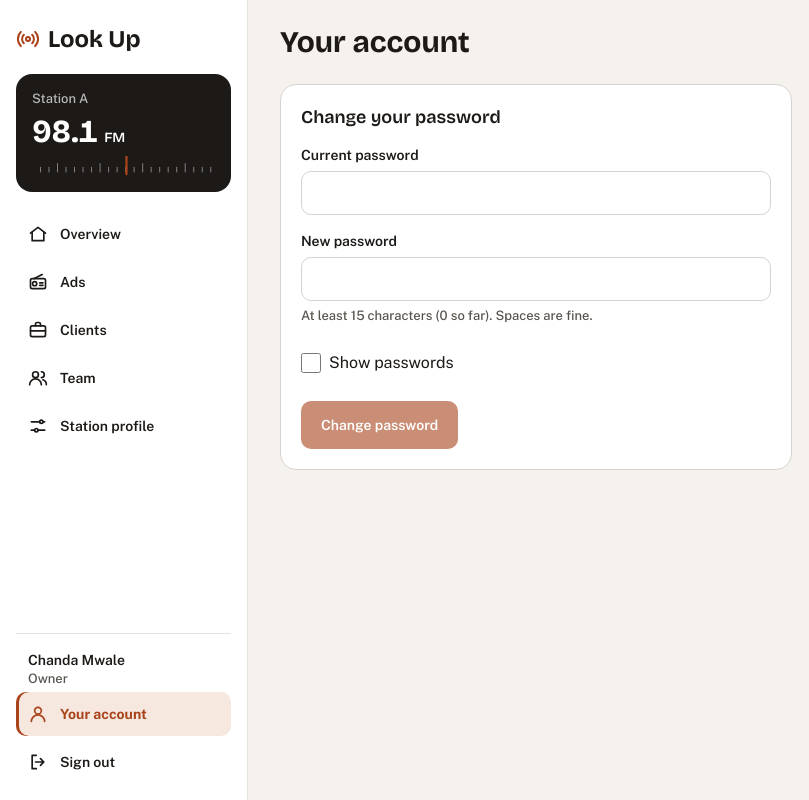
Test: changing a password › confirms the change and clears both fields
Type "amber kettle rainy harbour" into the password field labelled "Current password" at (536, 193), box [301, 171, 771, 215]
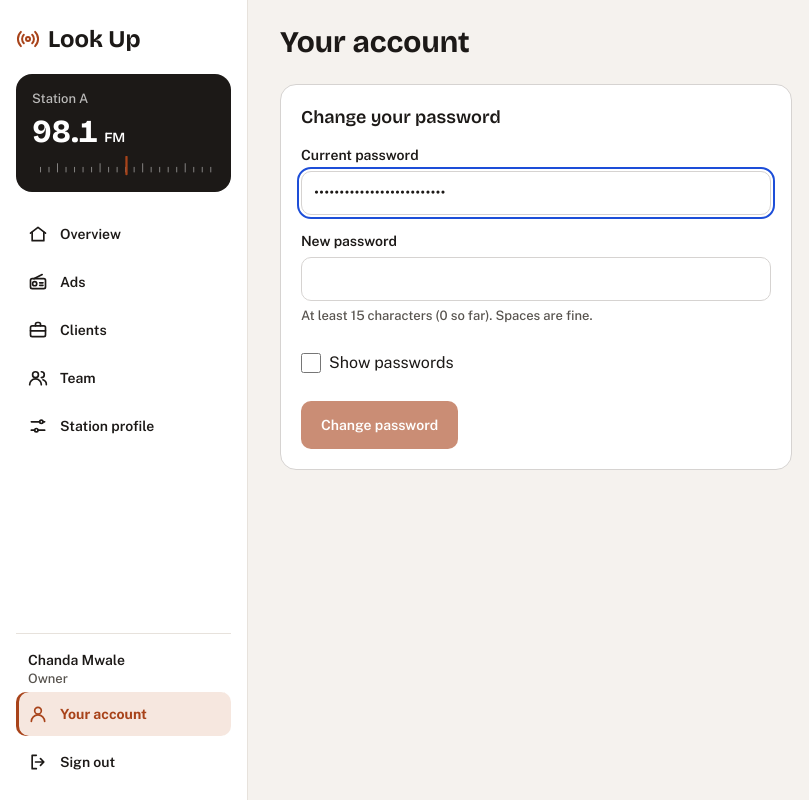
Type "copper lantern quiet meadow" into the password field labelled "New password" at (536, 279), box [301, 257, 771, 301]
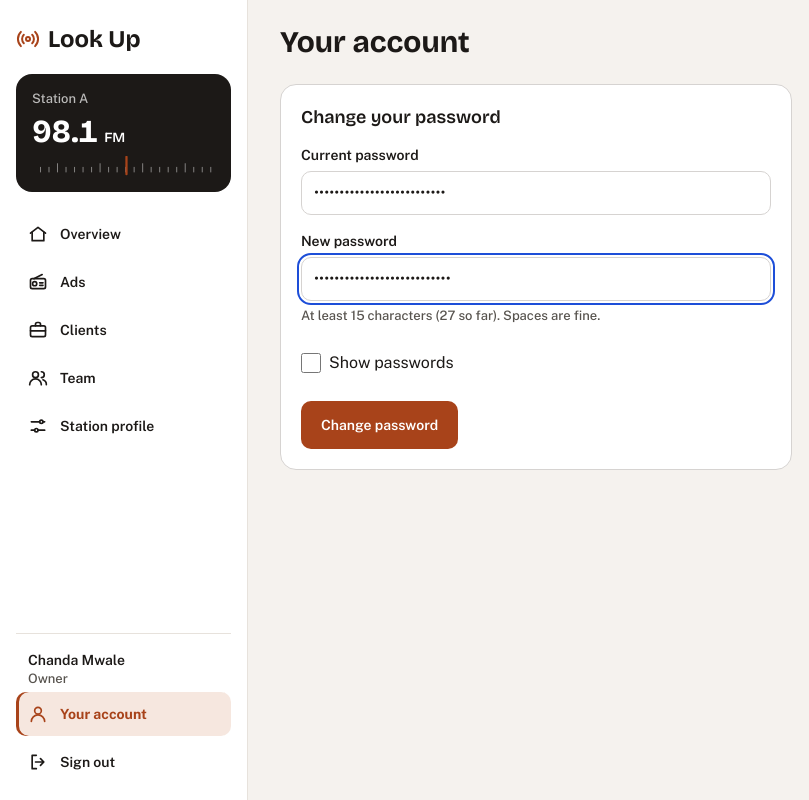
Click the button "Change password" at (380, 425), box [301, 401, 458, 449]
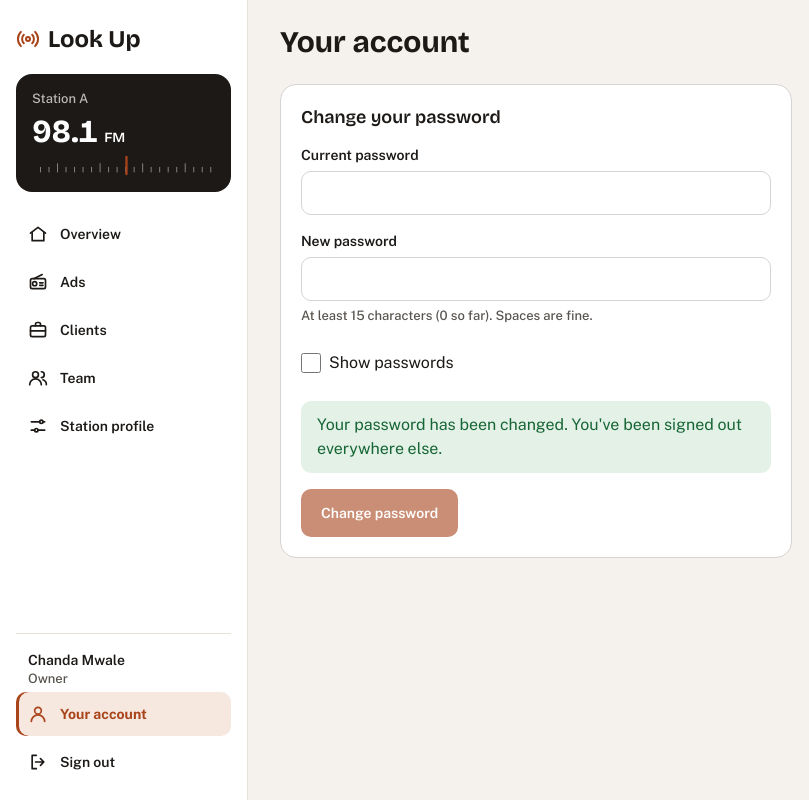
Result: the text "Your password has been changed. You've been signed out everywhere else." is shown at [301, 401, 771, 473]
Result: the password field labelled "Current password" is empty at [301, 171, 771, 215]
Result: the password field labelled "New password" is empty at [301, 257, 771, 301]
